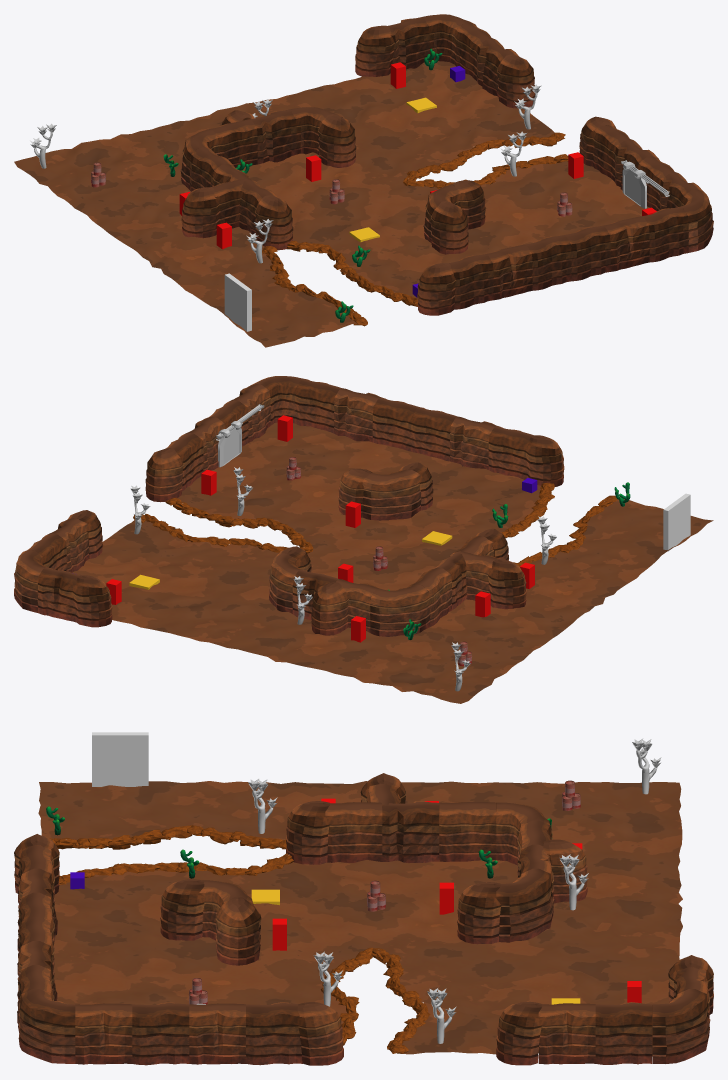
Rendered from Level1_b2.FBX.
3 renders of one model, top to bottom at view 1: azimuth 30°, elevation 25°; view 2: azimuth 150°, elevation 25°; view 3: azimuth 270°, elevation 25°, orthographic. The views are drawn at different scales.
Visible parts, largest first — view 1: Plane074, level1_wall027, GeoSphere003, GeoSphere005, Cylinder005, Box003, Box013, barrel 011, Lil_Cactus001, level1_door, Box009; view 2: Plane074, level1_wall027, Box003, GeoSphere003, GeoSphere005, Cylinder005, Box013, barrel 011, level1_door, Lil_Cactus001, Box009; view 3: Plane074, level1_wall027, GeoSphere003, Cylinder005, GeoSphere005, Box013, Box003, barrel 011, Lil_Cactus001, Box009.
Boxes of the visible parts, box(x1,y1,x2,y2) form: Plane074: box(14, 61, 650, 347); level1_wall027: box(180, 14, 713, 315); GeoSphere003: box(266, 136, 568, 319); GeoSphere005: box(262, 132, 565, 326); Cylinder005: box(30, 84, 541, 263); Box003: box(179, 62, 656, 249); Box013: box(224, 273, 251, 331); barrel 011: box(91, 162, 572, 216); Lil_Cactus001: box(163, 48, 442, 322); level1_door: box(622, 161, 646, 208); Box009: box(349, 97, 436, 242); Plane074: box(72, 422, 713, 703); level1_wall027: box(14, 376, 564, 636); Box003: box(106, 415, 534, 642); GeoSphere003: box(145, 484, 613, 565); GeoSphere005: box(133, 483, 617, 566); Cylinder005: box(130, 467, 556, 691); Box013: box(663, 493, 690, 551); barrel 011: box(286, 457, 472, 666); level1_door: box(218, 421, 241, 467); Lil_Cactus001: box(388, 482, 630, 639); Box009: box(129, 531, 452, 589); Plane074: box(38, 781, 682, 1054); level1_wall027: box(14, 773, 713, 1065); GeoSphere003: box(54, 825, 430, 1049); Cylinder005: box(248, 738, 661, 1043); GeoSphere005: box(49, 825, 425, 1053); Box013: box(92, 732, 148, 786); Box003: box(272, 798, 641, 1003); barrel 011: box(189, 780, 580, 1004); Lil_Cactus001: box(46, 806, 552, 878); Box009: box(251, 889, 580, 1004).
Bounding box in the file's own units: 1858 × 239 × 1936.
